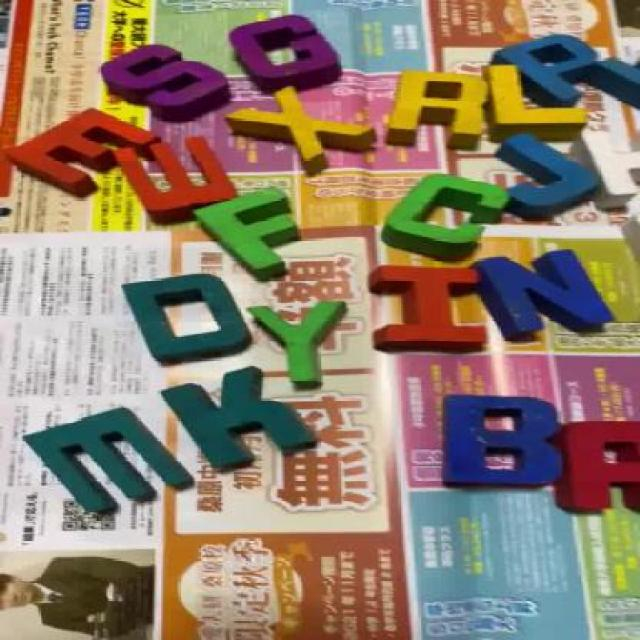A: (558, 415, 639, 527)
B: (439, 391, 553, 483)
C: (372, 174, 517, 254)
D: (133, 271, 250, 358)
E: (12, 108, 152, 192)
F: (198, 188, 305, 272)
G: (234, 14, 343, 94)
I: (365, 262, 489, 353)
J: (492, 135, 600, 222)
K: (168, 369, 320, 471)
L: (481, 62, 588, 138)
M: (39, 406, 187, 511)
N: (472, 252, 613, 334)
P: (504, 29, 598, 105)
R: (393, 66, 490, 151)
S: (101, 42, 234, 124)
W: (116, 135, 236, 216)
X: (232, 87, 372, 165)
Y: (249, 303, 348, 385)
